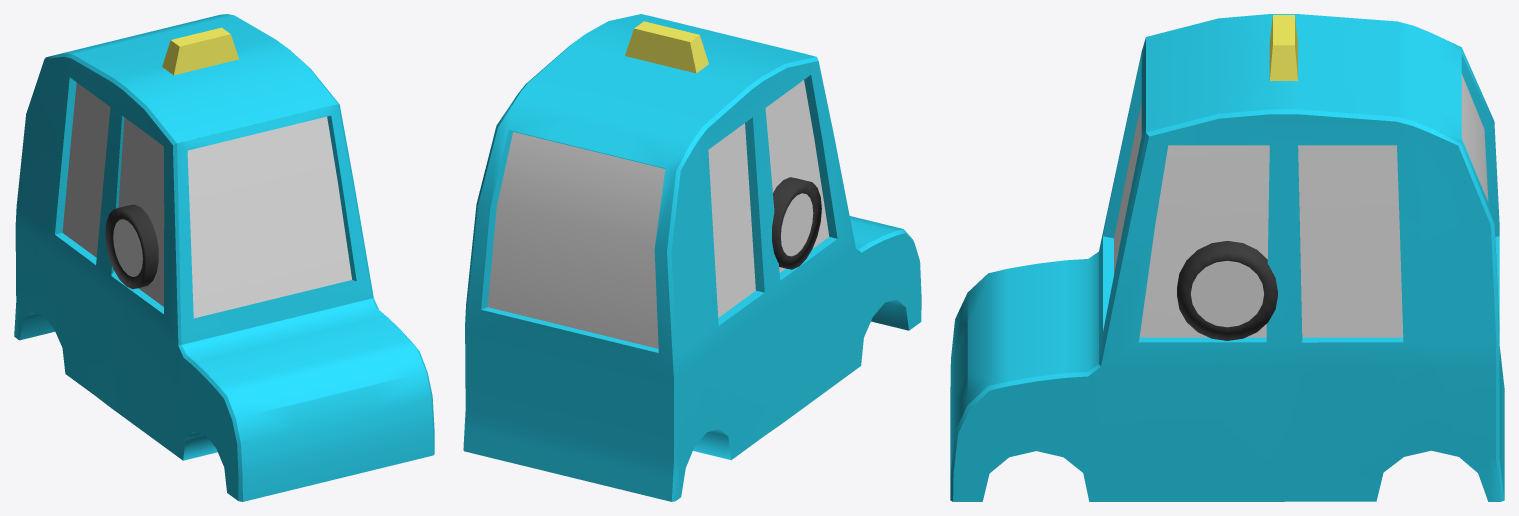
File: CarTest.fbx
3 views of the same model, side by side, from view 1: azimuth 30°, elevation 25°; view 2: azimuth 150°, elevation 25°; view 3: azimuth 270°, elevation 25° (orthographic). The views are drawn at different scales.
Visible parts, largest first — view 1: car_P_chasis, car_P_right_wheel; view 2: car_P_chasis, car_P_right_wheel; view 3: car_P_chasis, car_P_back_wheel, car_P_left_wheel.
Part boxes in pixels (left/top/right/bottom): car_P_chasis: left=14, top=14, right=434, bottom=501; car_P_right_wheel: left=105, top=204, right=158, bottom=289; car_P_chasis: left=463, top=14, right=921, bottom=501; car_P_right_wheel: left=772, top=177, right=821, bottom=269; car_P_chasis: left=950, top=14, right=1504, bottom=501; car_P_back_wheel: left=1189, top=259, right=1265, bottom=328; car_P_left_wheel: left=1177, top=241, right=1277, bottom=340.
Bounding box in the file's own units: 76.25 × 127 × 154.
